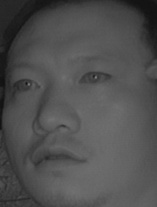eye: (76, 67, 112, 88), (11, 73, 45, 95)
mouth: (29, 138, 91, 177)
